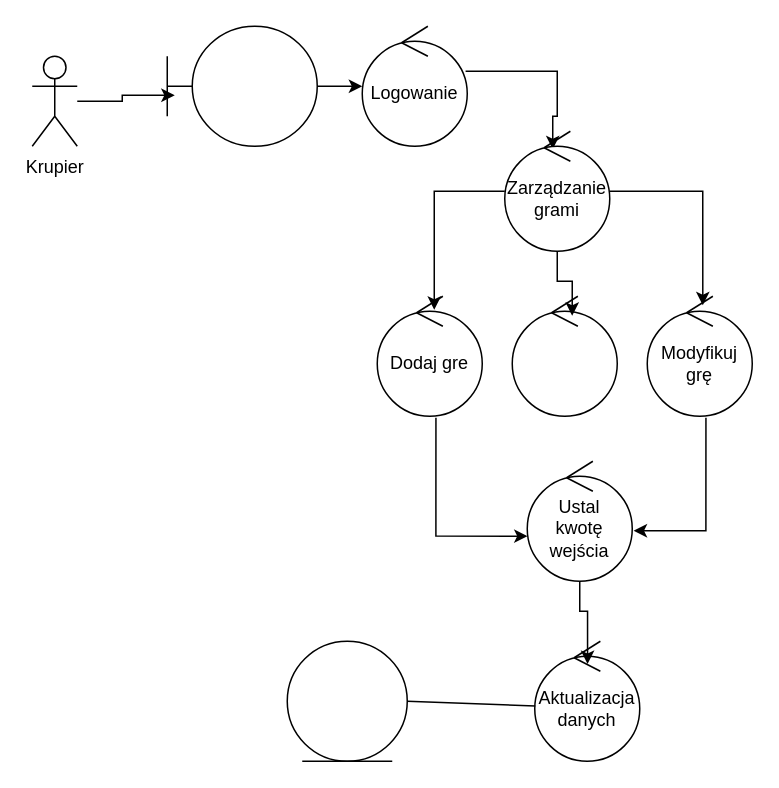
Image size: 779x788. Some labels were removed from this diagram. Here are the shapes that lost their labels. From the top down, the box of each, then its label:
(166, 25, 317, 146): Formularz Logowania
(511, 295, 617, 416): Usuń grę
(286, 640, 407, 761): Baza danych
